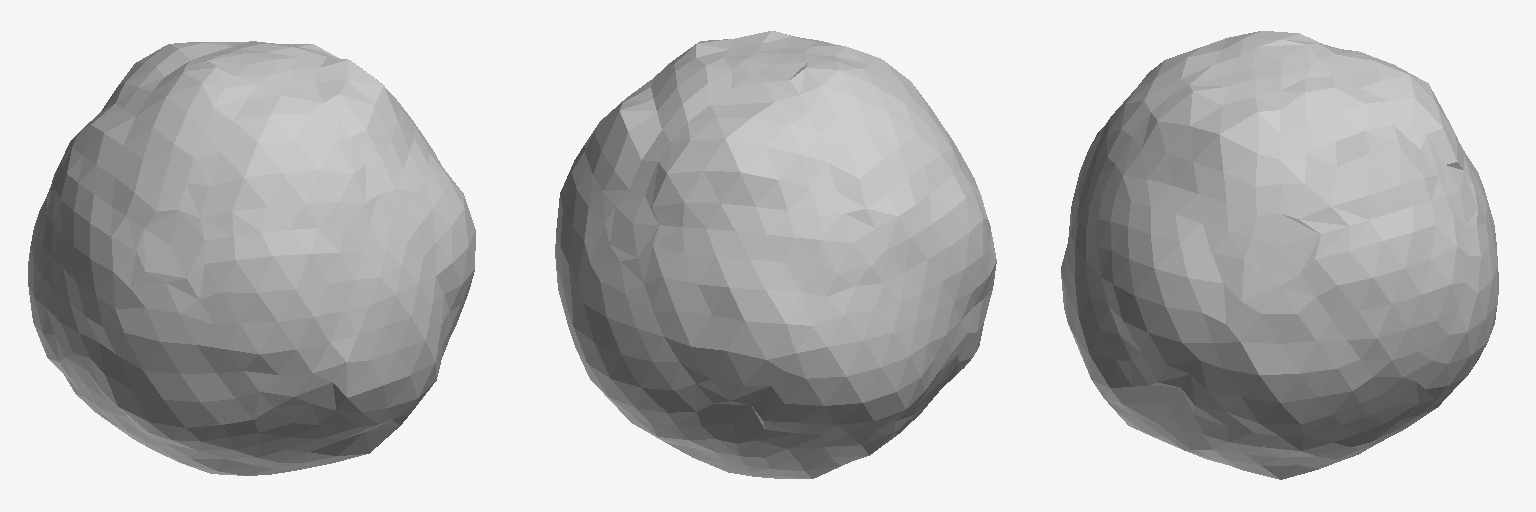
File: rounder.obj
3 renders of one model, left to right at view 1: azimuth 30°, elevation 25°; view 2: azimuth 150°, elevation 25°; view 3: azimuth 270°, elevation 25°, orthographic.
Parts seen in each view (by area): view 1: Icosphere; view 2: Icosphere; view 3: Icosphere.
Boxes of the visible parts, box(x1,y1,x2,y2) form: Icosphere: box(28, 41, 475, 475); Icosphere: box(555, 31, 996, 478); Icosphere: box(1061, 31, 1498, 479).
Bounding box in the file's own units: 3.88 × 3.9 × 3.92.